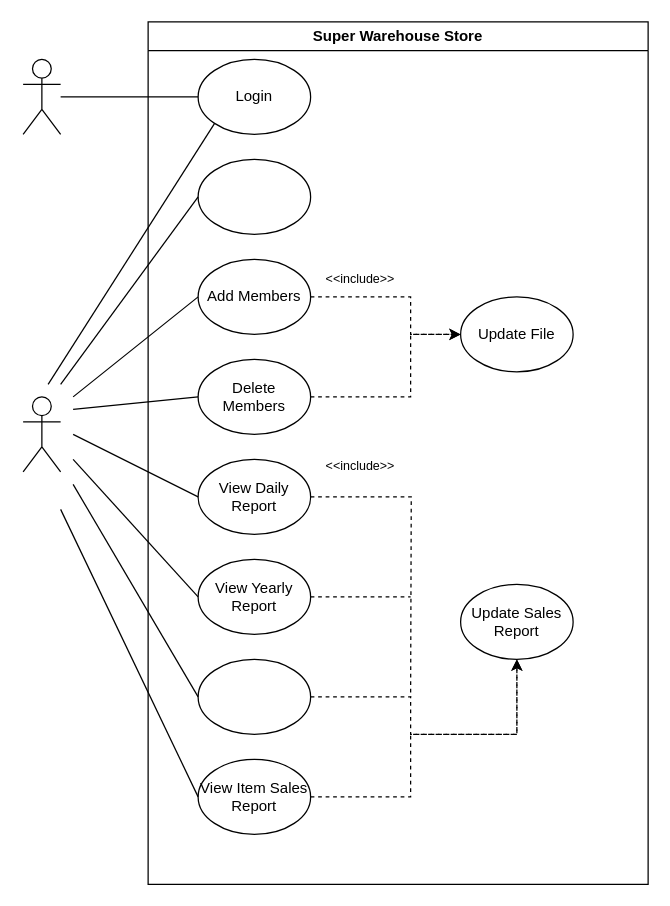
This 670x906 diagram has some shape labels left out. Here are the shapes that lost their labels. From the top down, the centre of each, then its label:
At [41,96]: "Guest".
At [254,196]: "View Members".
At [41,434]: "User".
At [254,696]: "View Members Report".
